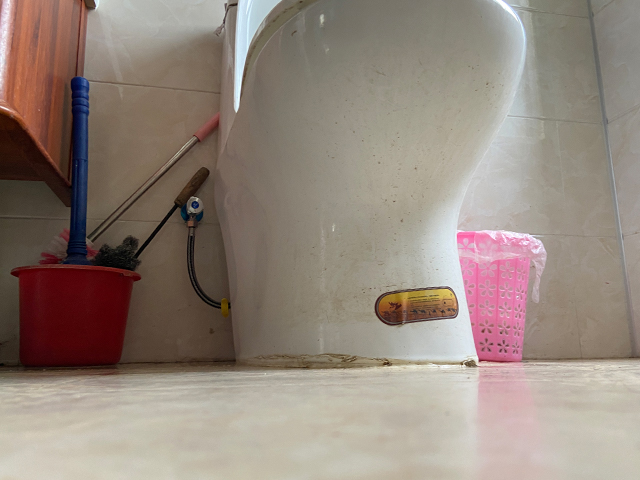closestool: (212, 1, 528, 370)
trashcan: (456, 229, 547, 363)
